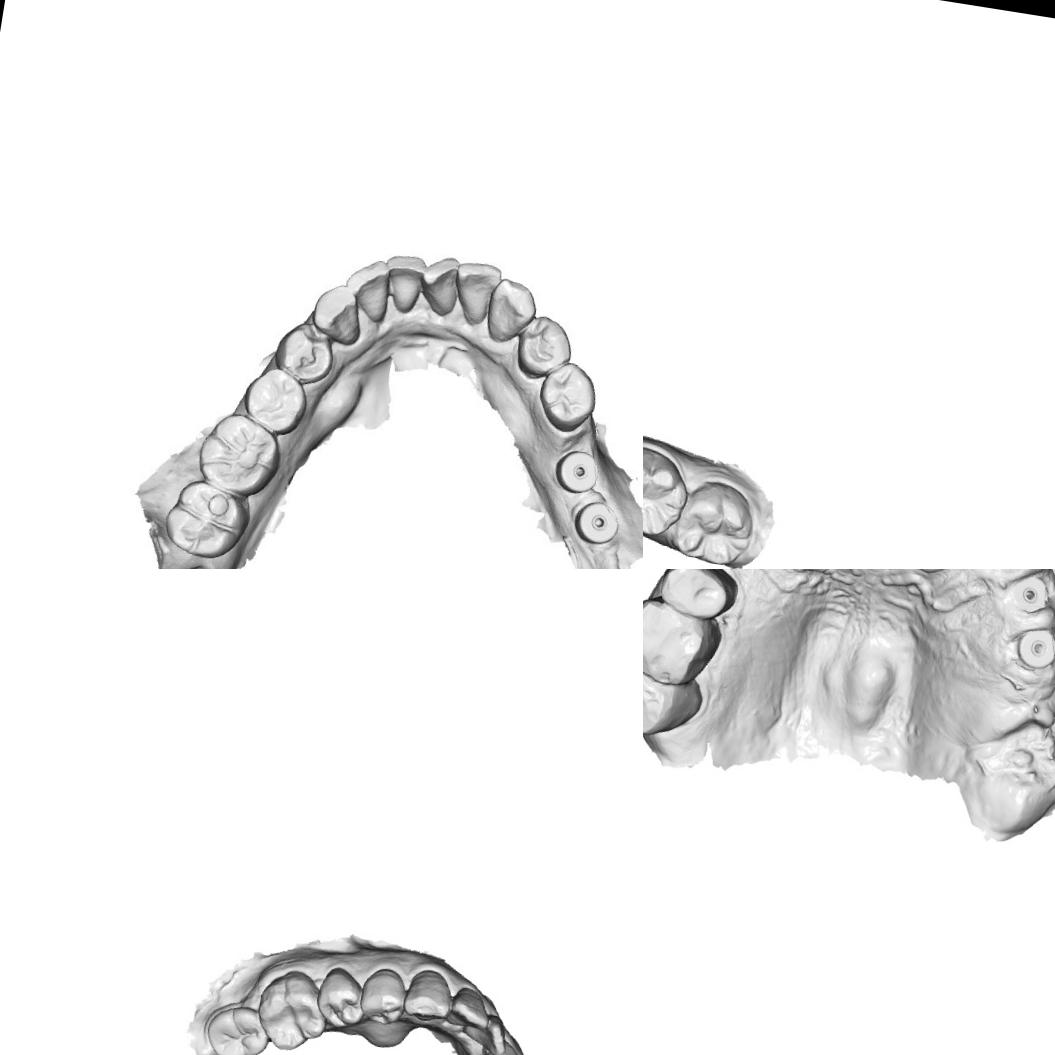canine: (477, 274, 541, 350), (399, 965, 458, 1025), (311, 280, 363, 342)
implant: (567, 497, 626, 548), (550, 445, 602, 499), (1014, 625, 1055, 673), (1012, 573, 1054, 619)
incisor: (344, 256, 393, 324), (452, 259, 499, 326), (382, 252, 430, 316), (420, 254, 464, 316), (444, 984, 494, 1031), (478, 1013, 512, 1055), (482, 1041, 524, 1055)
molar: (665, 474, 760, 569), (643, 595, 726, 691), (251, 965, 333, 1055), (196, 408, 280, 494), (162, 480, 245, 558), (643, 657, 706, 744), (643, 439, 694, 541), (201, 1000, 274, 1055)
premolar: (505, 308, 579, 386), (652, 569, 743, 632), (533, 356, 604, 436), (243, 365, 310, 433), (312, 964, 370, 1032), (275, 322, 335, 385), (355, 963, 411, 1028)
